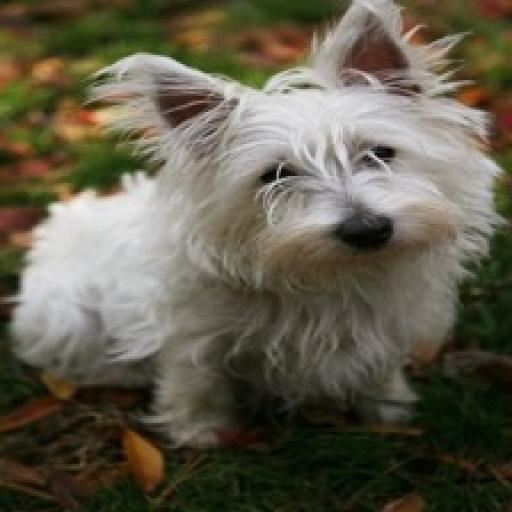dog: (1, 2, 499, 459)
